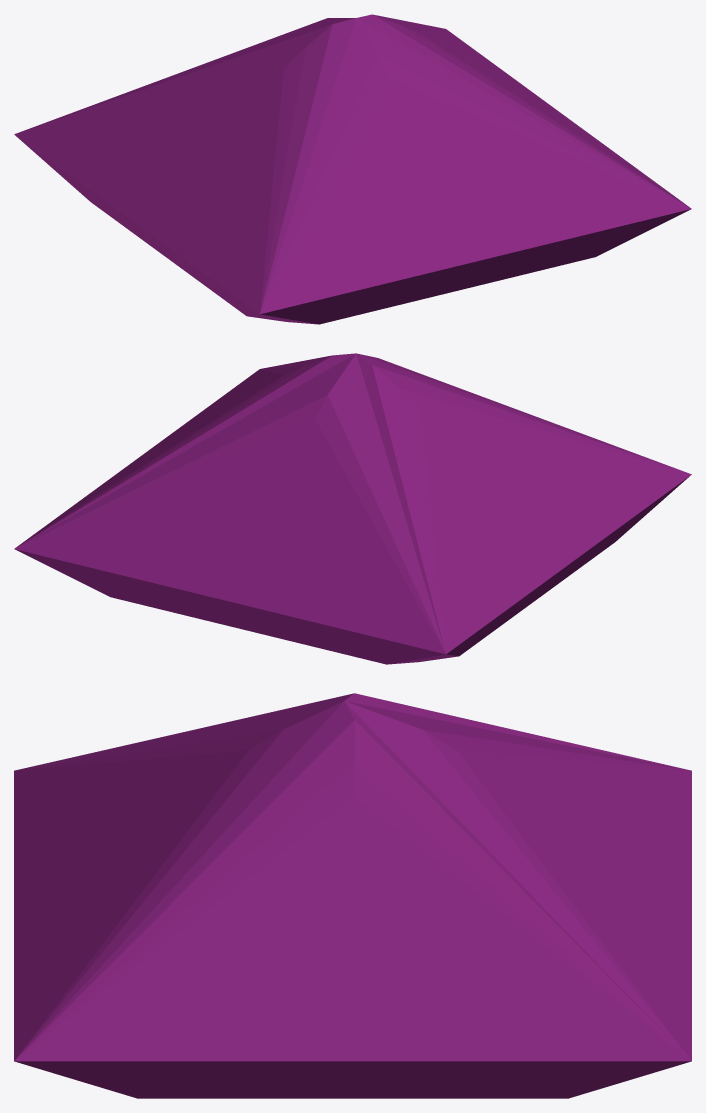
Rendered from Gem001.fbx.
3 views of the same model, one above another, from view 1: azimuth 30°, elevation 25°; view 2: azimuth 150°, elevation 25°; view 3: azimuth 270°, elevation 25° (orthographic). The views are drawn at different scales.
Visible parts, largest first — view 1: Gem001; view 2: Gem001; view 3: Gem001.
Part boxes in pixels (bbox=[...]): Gem001: bbox=[14, 14, 691, 324]; Gem001: bbox=[14, 353, 691, 664]; Gem001: bbox=[14, 693, 691, 1098].
Size of the model in its own units: 248 by 113 by 244.
